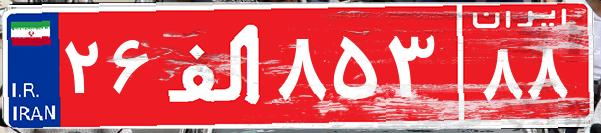2: (57, 26, 110, 107)
3: (385, 28, 445, 110)
5: (330, 28, 385, 110)
6: (110, 28, 158, 105)
8: (273, 28, 330, 110), (475, 38, 525, 113), (525, 38, 570, 115)
الف: (158, 15, 273, 115)
